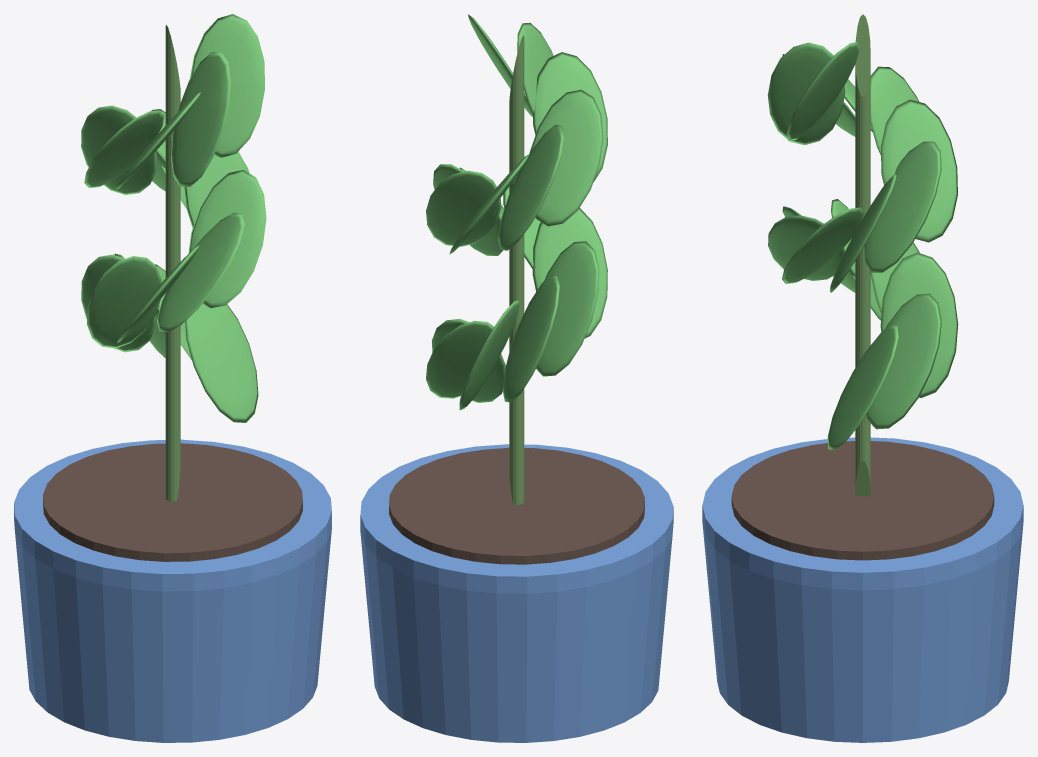
3 views of the same model, side by side, from view 1: azimuth 30°, elevation 25°; view 2: azimuth 150°, elevation 25°; view 3: azimuth 270°, elevation 25° (orthographic). The views are drawn at different scales.
Visible parts, largest first — view 1: Pot_Complete, Leaves, Soil, Stem; view 2: Pot_Complete, Leaves, Soil, Stem; view 3: Pot_Complete, Leaves, Soil, Stem.
Boxes of the visible parts, <box> form: Pot_Complete: <box>14,439,331,742</box>; Leaves: <box>81,14,266,422</box>; Soil: <box>43,443,302,561</box>; Stem: <box>165,25,180,501</box>; Pot_Complete: <box>360,444,673,742</box>; Leaves: <box>426,14,607,410</box>; Soil: <box>389,448,644,564</box>; Stem: <box>509,35,524,504</box>; Pot_Complete: <box>702,437,1023,742</box>; Leaves: <box>767,42,958,450</box>; Soil: <box>731,441,994,560</box>; Stem: <box>855,14,870,496</box>.
Bounding box in the file's own units: 0.33 × 0.7538 × 0.33.
